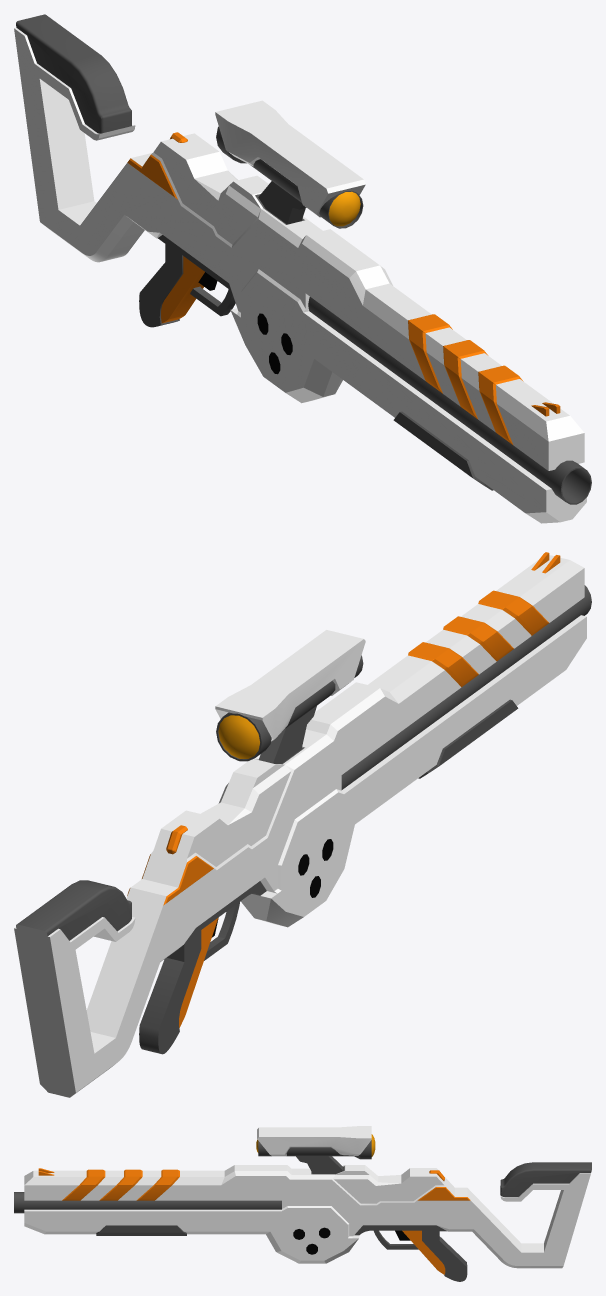
Rendered from Solid colour firelance.fbx.
3 renders of one model, top to bottom at view 1: azimuth 30°, elevation 25°; view 2: azimuth 150°, elevation 25°; view 3: azimuth 270°, elevation 25°, orthographic. The views are drawn at different scales.
Visible parts, largest first — view 1: Group2, Group4, Group5, Group6, Group3; view 2: Group2, Group4, Group5, Group6; view 3: Group2, Group4, Group5, Group3.
Boxes of the visible parts, bbox=[...] form: Group2: bbox=[14, 27, 586, 523]; Group4: bbox=[16, 14, 591, 504]; Group5: bbox=[127, 132, 560, 445]; Group6: bbox=[329, 191, 360, 226]; Group3: bbox=[198, 272, 292, 374]; Group2: bbox=[14, 555, 586, 1097]; Group4: bbox=[17, 585, 591, 1054]; Group5: bbox=[127, 552, 560, 1027]; Group6: bbox=[218, 715, 259, 758]; Group2: bbox=[24, 1126, 590, 1268]; Group4: bbox=[14, 1140, 591, 1281]; Group5: bbox=[38, 1168, 470, 1274]; Group3: bbox=[293, 1227, 410, 1254].
Size of the model in its own units: 57.9 by 326 by 1159.
